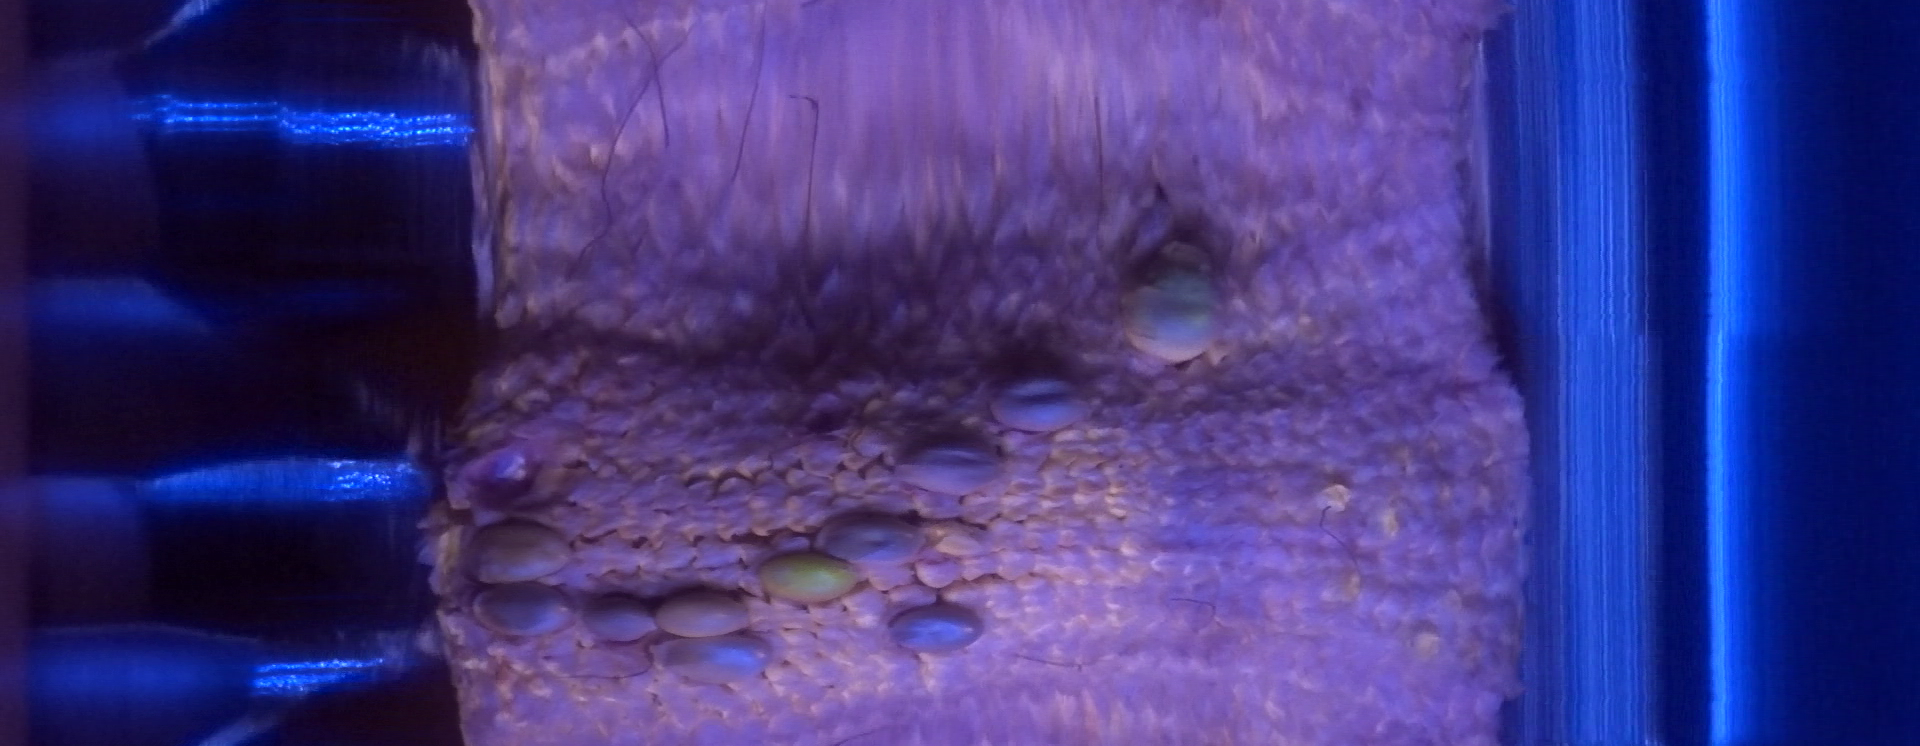fluorescent: (1116, 263, 1229, 367), (764, 556, 856, 601)
nonfluorescent: (460, 514, 580, 589), (984, 370, 1100, 442), (468, 577, 585, 647), (814, 510, 934, 575), (647, 633, 784, 687), (894, 446, 1018, 500), (887, 599, 988, 657), (653, 587, 760, 639), (578, 589, 664, 649), (458, 440, 544, 500)
